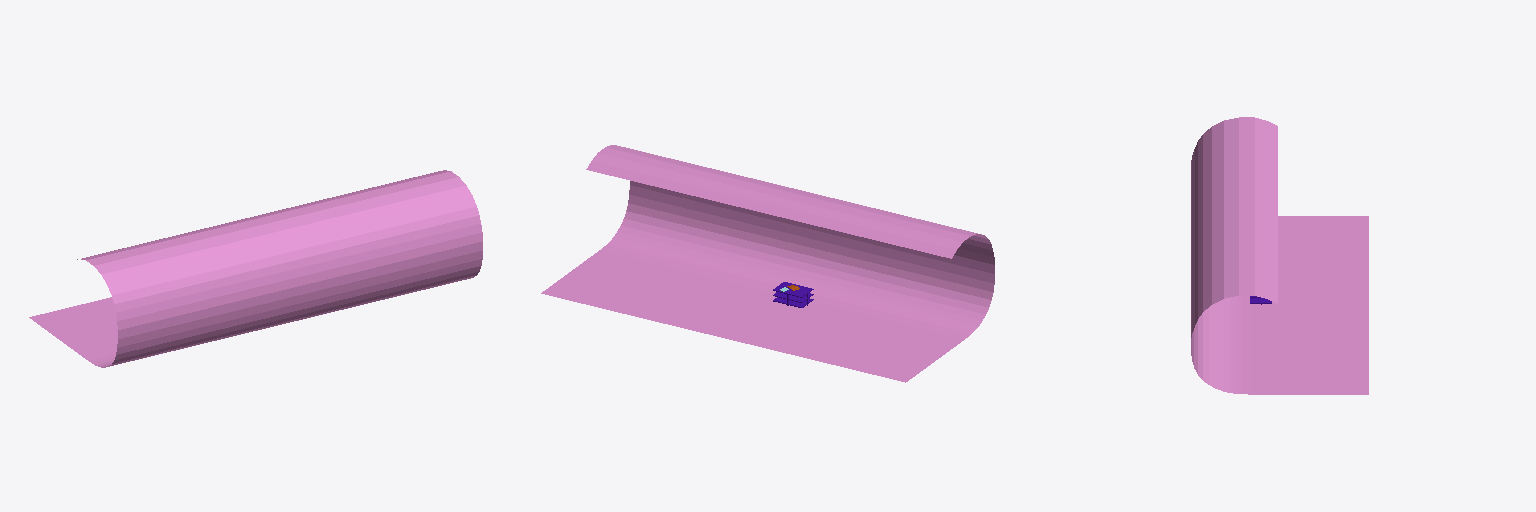
Rendered from jour.obj.
The picture shows the model from 3 angles: view 1: azimuth 30°, elevation 25°; view 2: azimuth 150°, elevation 25°; view 3: azimuth 270°, elevation 25°; orthographic projection.
Parts seen in each view (by area): view 1: sd; view 2: sd, stol; view 3: sd.
Boxes of the visible parts, x1=… form: sd: x1=29, y1=170, x2=482, y2=367; sd: x1=541, y1=145, x2=994, y2=382; stol: x1=773, y1=282, x2=813, y2=307; sd: x1=1191, y1=117, x2=1368, y2=394.
Bounding box in the file's own units: 1481 × 383 × 626.